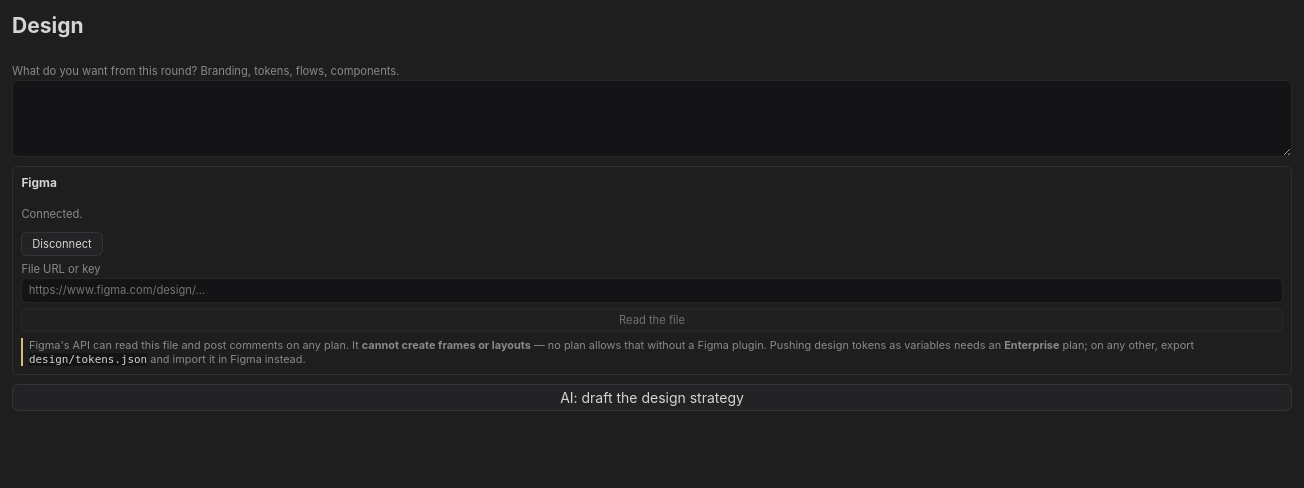
Test: Marketing & Design › treats a refusal as a question, not a failure
Click the button with aria-label "Generate design strategy".
click(652, 398)  # box top-left (12, 384), bottom-right (1292, 411)
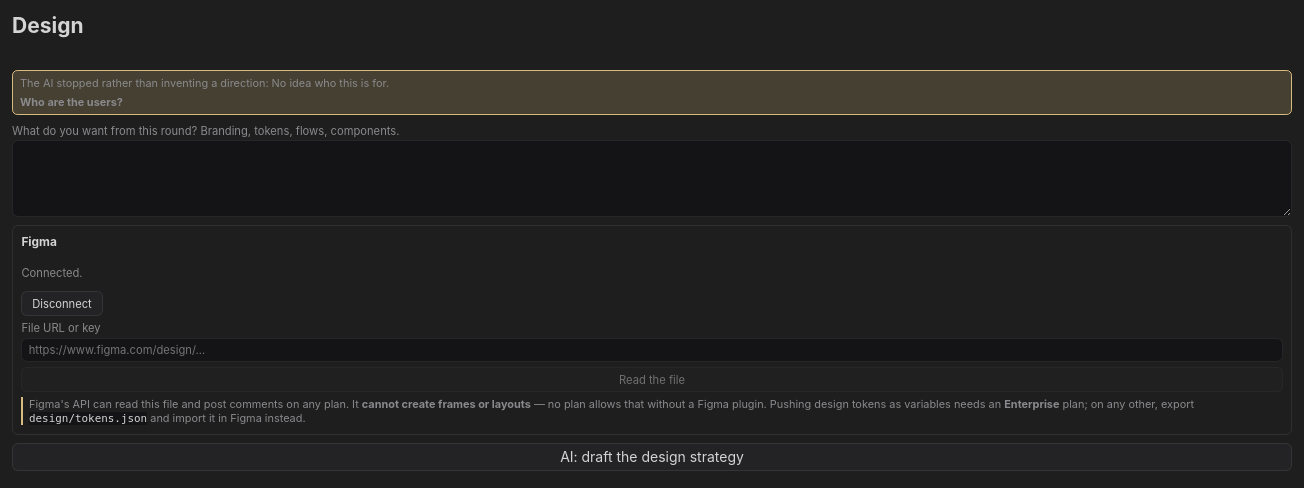
Expected: the text "No idea who this is for" is shown, top-left (272, 76), bottom-right (389, 90)
Expected: the text "Who are the users?" is shown, top-left (20, 95), bottom-right (123, 109)
